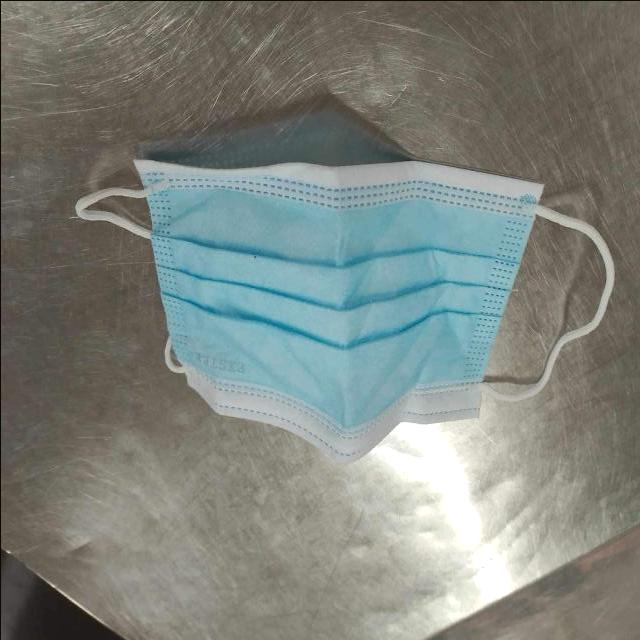General: (73, 153, 616, 463)
